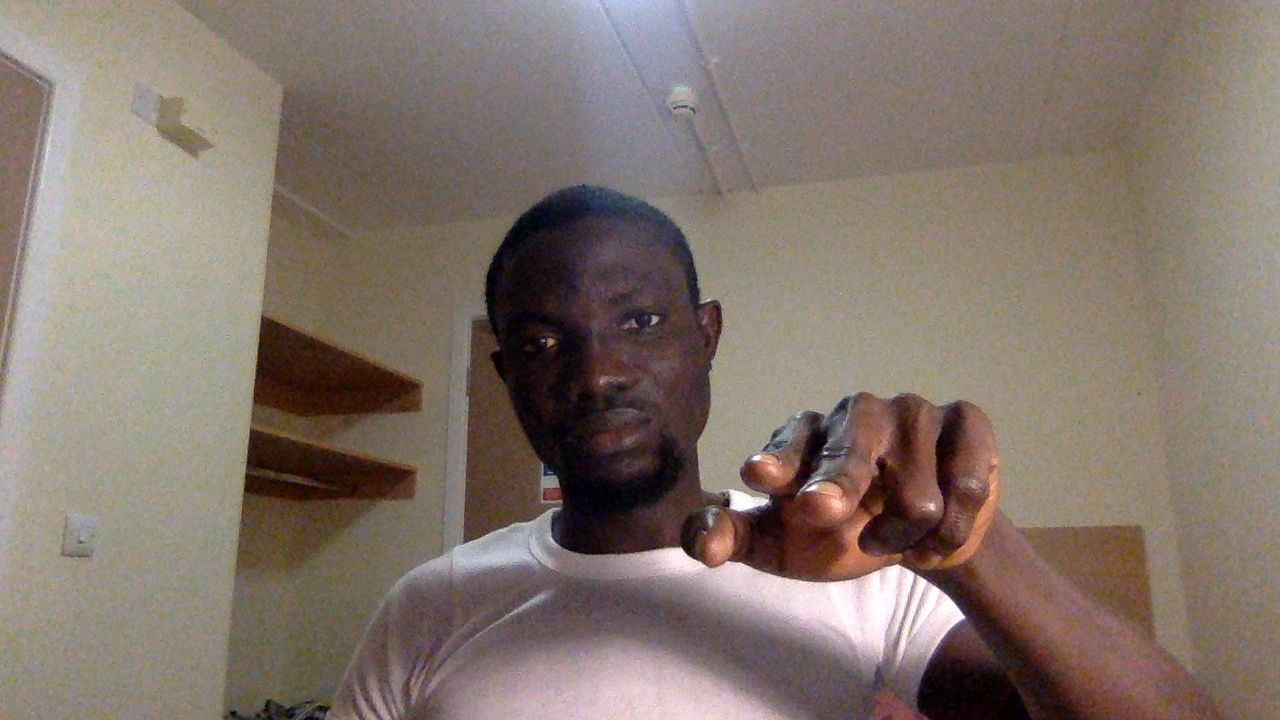No: (679, 382, 1023, 602)
